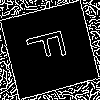F: (25, 24, 76, 65)
